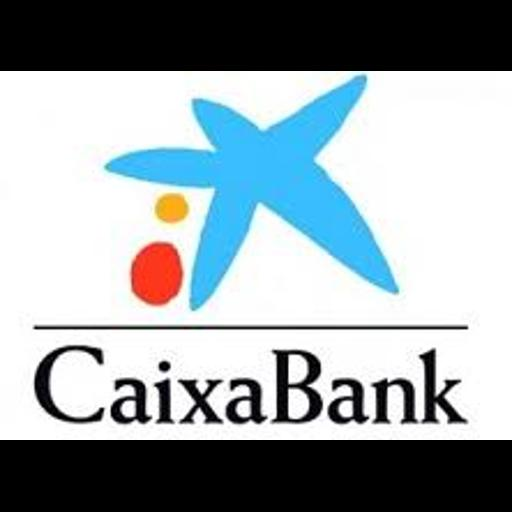CaixaBank: (0, 71, 512, 440)
